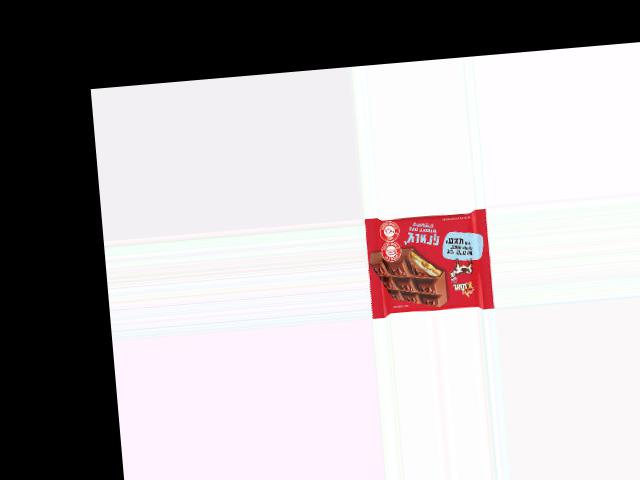chocolate: (365, 208, 490, 317)
